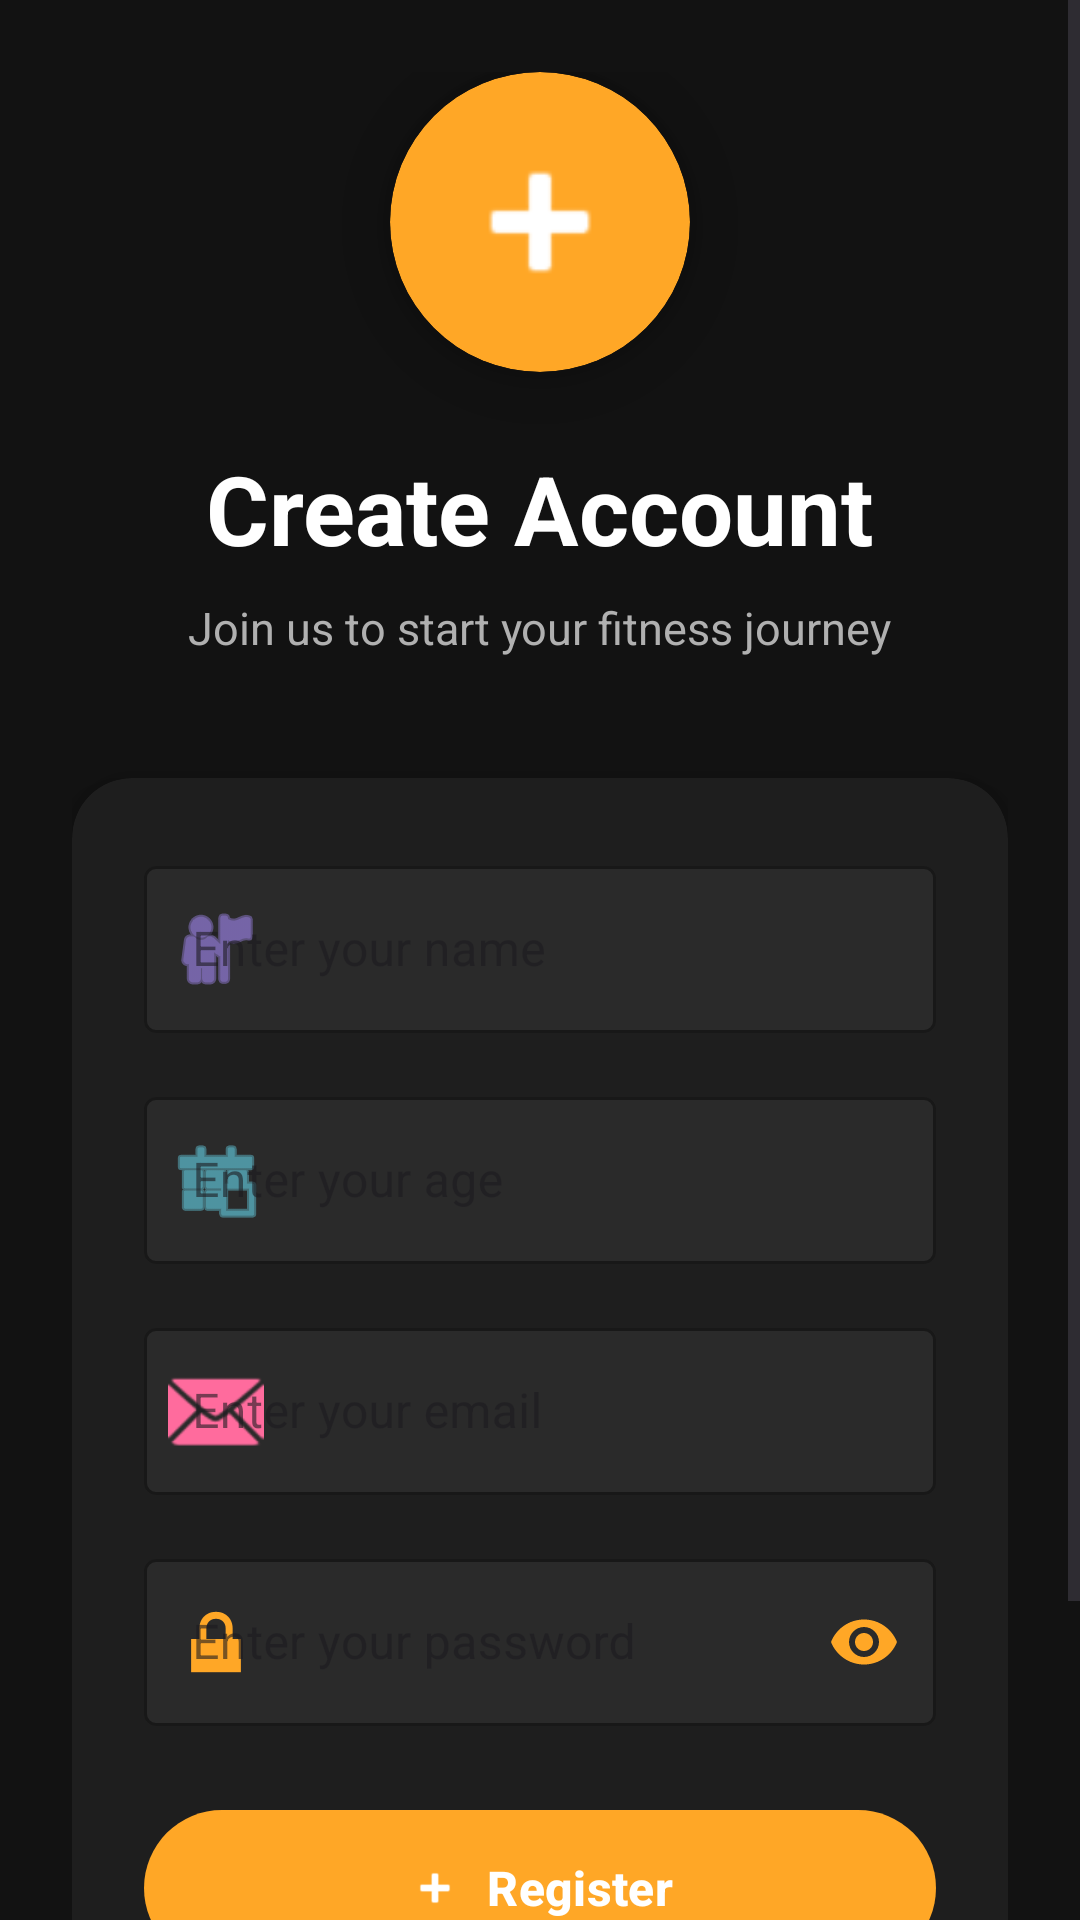

Point at icon controls on the screen. Image size 1080px x 1920px, points as [x,y].
add: [540,222]
